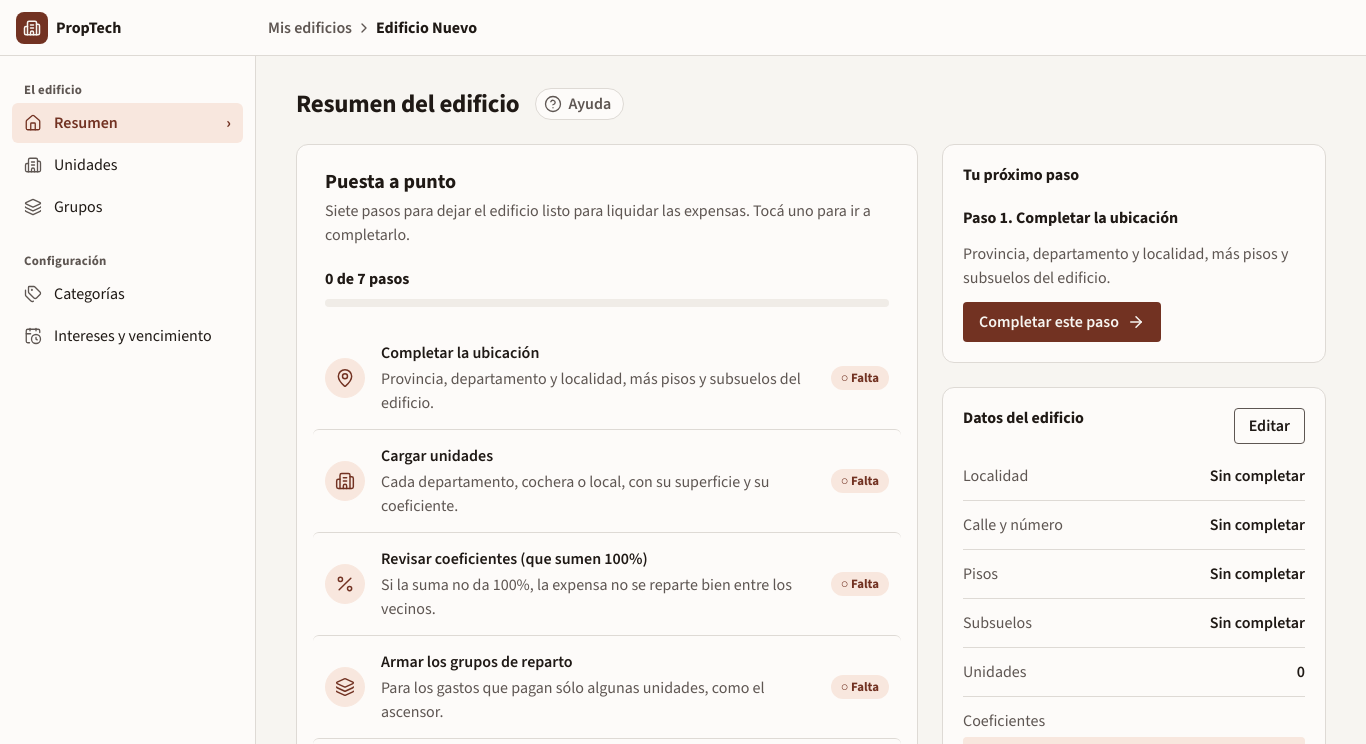
Test case: PantallaResumen › D3 (6.1) "Edificio migrado sin ubicación": el paso "ubicación" se completa desde el resumen
Click the button "Completar este paso" at (1062, 322), box 963,302 -> 1161,342
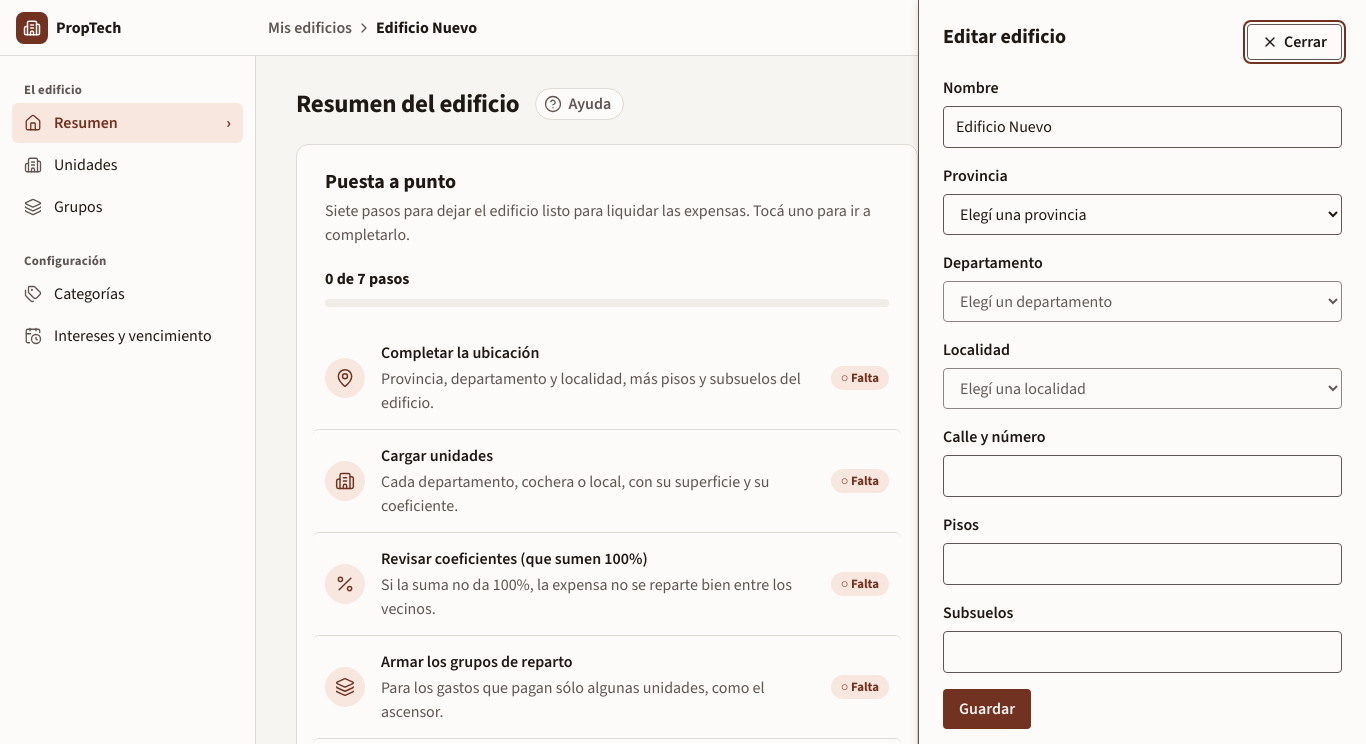
Check: the dropdown labelled "Provincia" is shown, box 943,194 -> 1342,235
